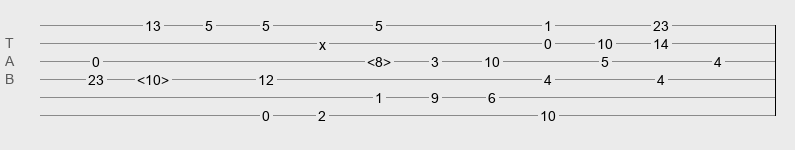0: (92, 54, 100, 64), (262, 108, 270, 118), (544, 36, 552, 46)
1: (375, 90, 383, 100), (544, 18, 552, 28)
10: (484, 54, 500, 64), (540, 108, 556, 118), (597, 36, 613, 46)
12: (258, 72, 274, 82)
13: (145, 18, 161, 28)
14: (653, 36, 669, 46)
2: (318, 108, 326, 118)
23: (88, 72, 104, 82), (653, 18, 669, 28)
3: (431, 54, 439, 64)
4: (544, 72, 552, 82), (657, 72, 665, 82), (714, 54, 722, 64)
5: (205, 18, 213, 28), (262, 18, 270, 28), (375, 18, 383, 28), (601, 54, 609, 64)
6: (488, 90, 496, 100)
9: (431, 90, 439, 100)
harmonic: (137, 72, 169, 82), (367, 54, 391, 64)
x: (319, 37, 326, 45)
